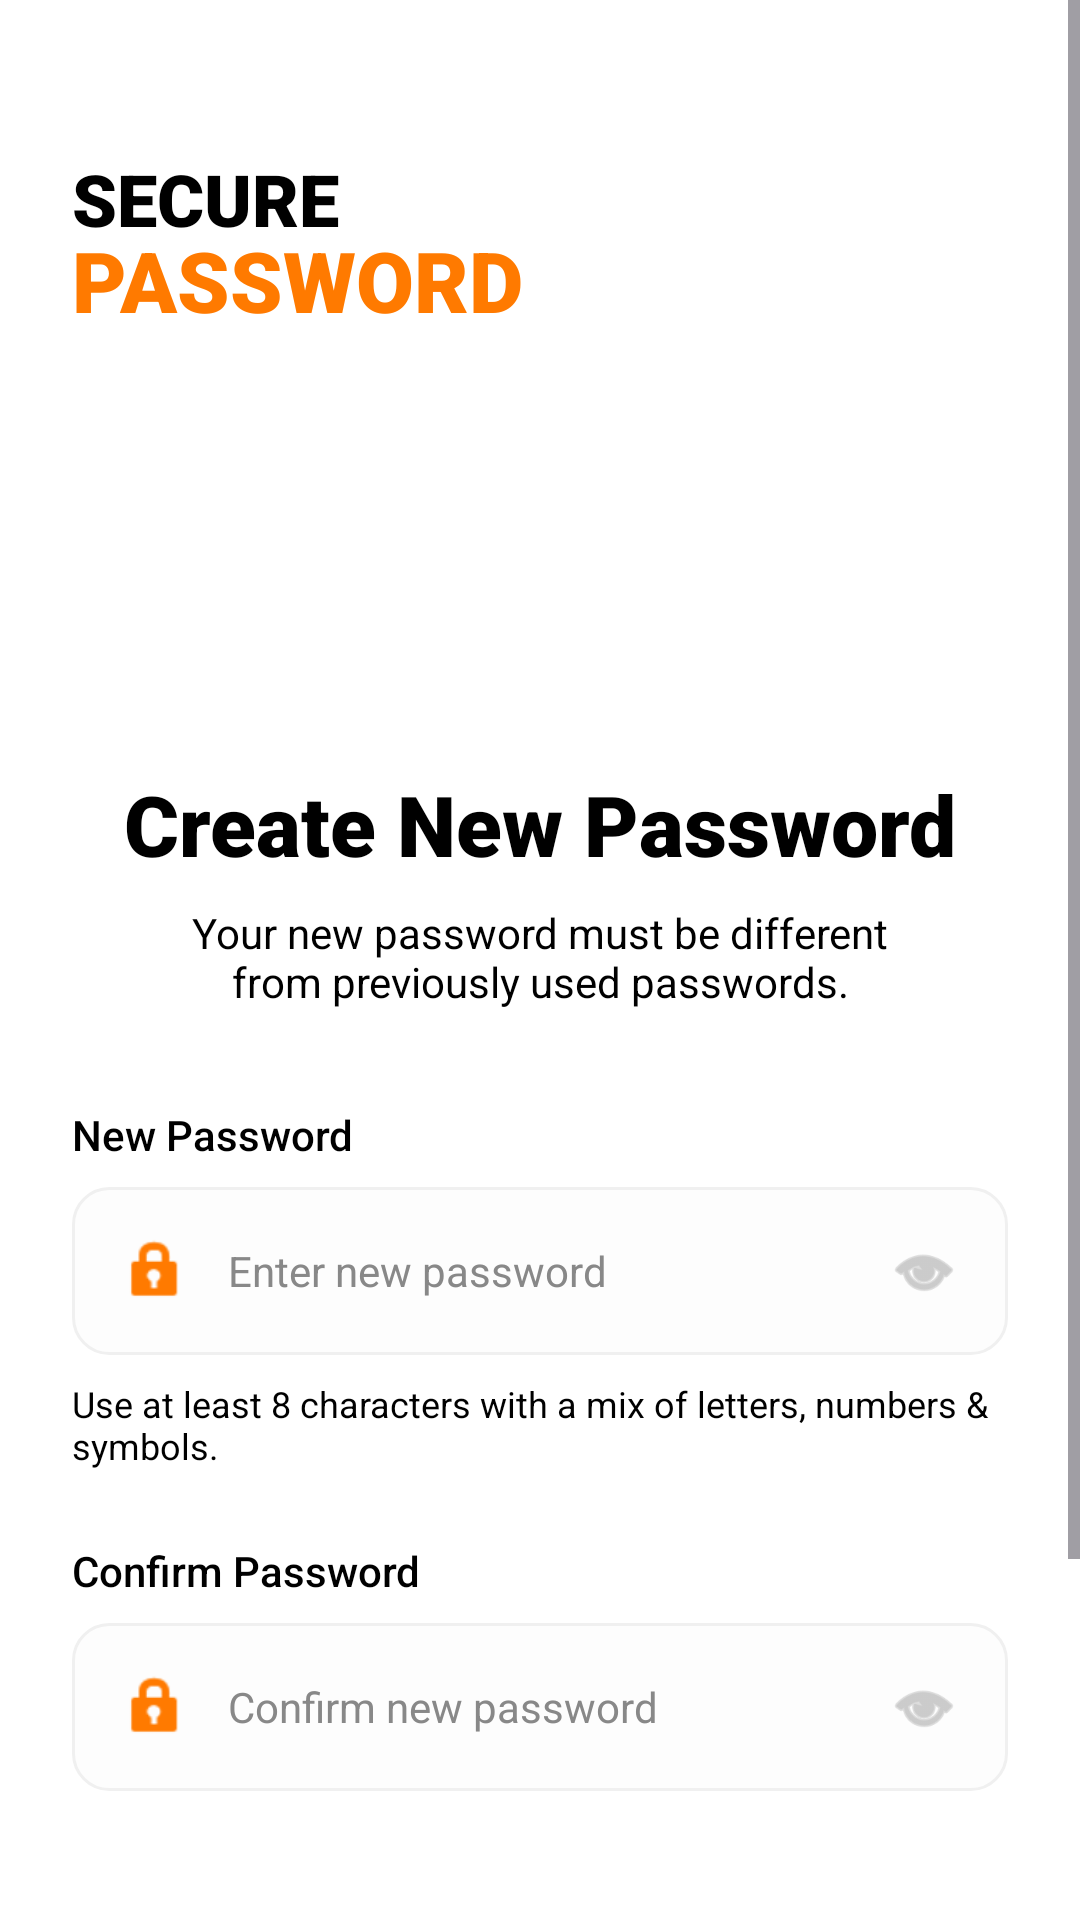

Icons on this 1080px x 1920px Android screen, each with its box as (x1, y1, x2, y2):
lock idle: (131, 1241, 178, 1296), (131, 1677, 178, 1732)
view: (895, 1255, 953, 1291), (895, 1691, 953, 1727)
